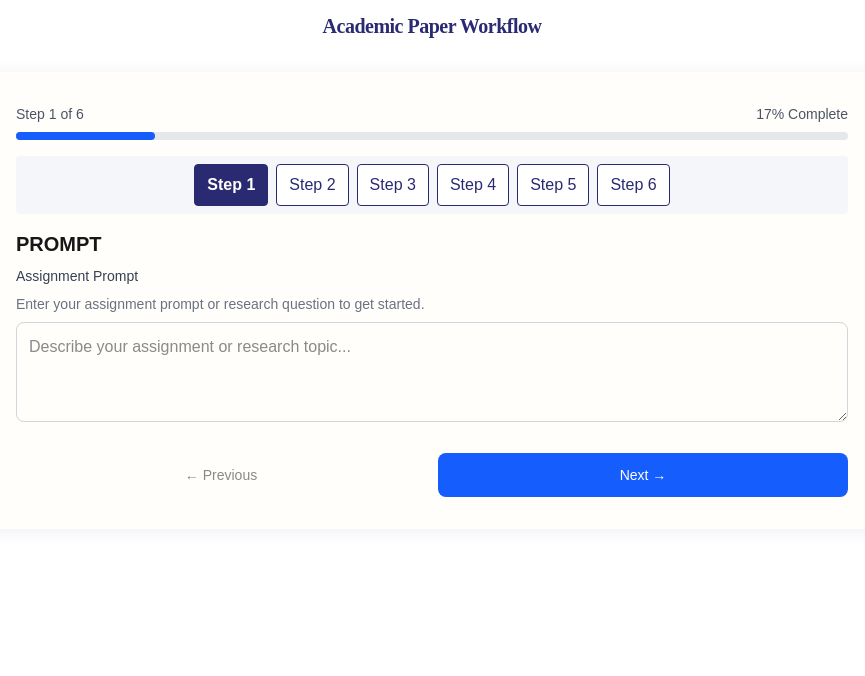
Test: Error Handling and Recovery › should display user-friendly error messages for API failures
The image size is (865, 676).
// Add prompt and trigger API call
Step 1. Type "Test prompt" into the text box labelled "Assignment Prompt" → [432, 372], box x1=16 y1=322 x2=848 y2=422
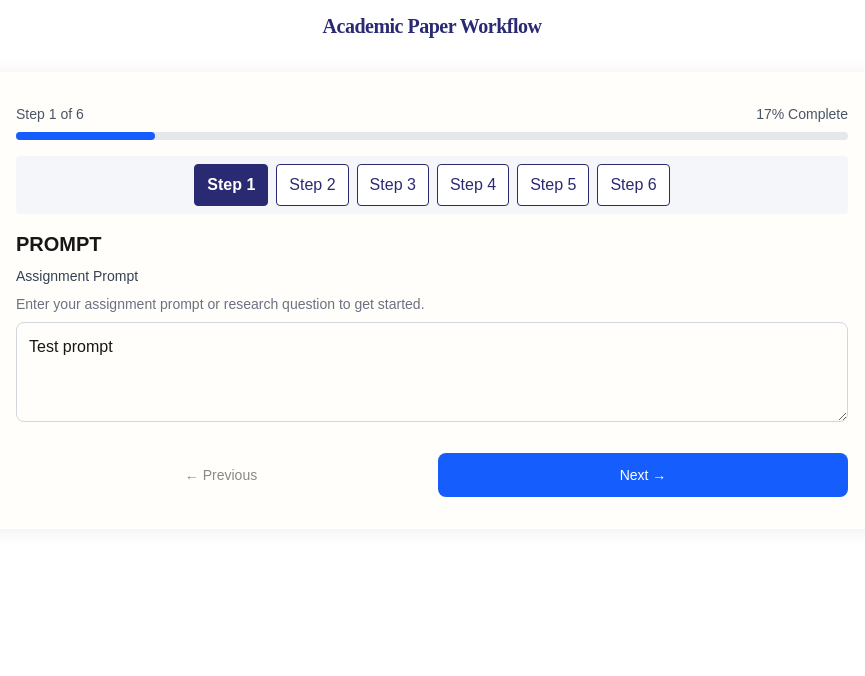
Step 2. Click the button with aria-label "go to next step" → [643, 475], box x1=438 y1=453 x2=848 y2=497
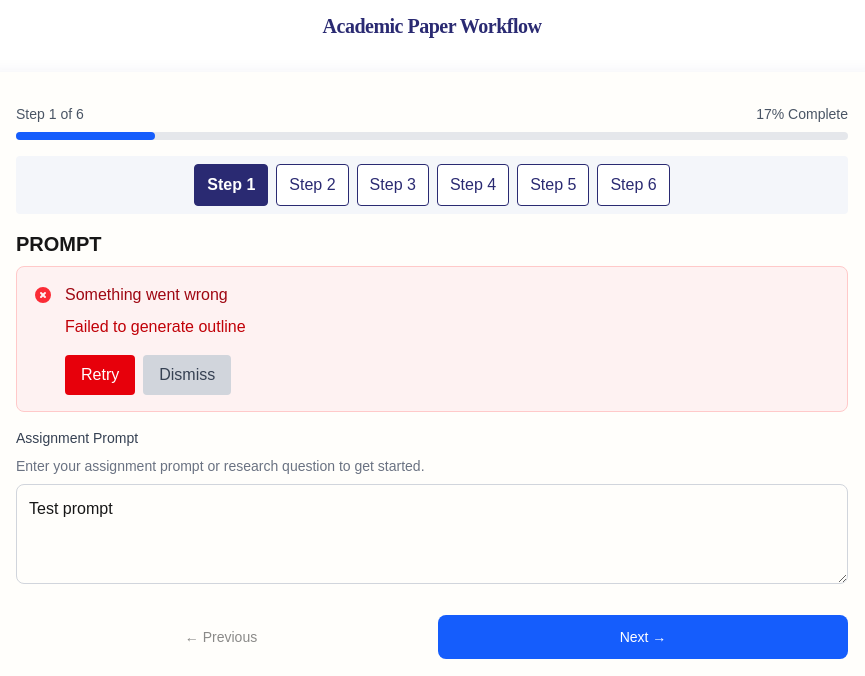
Check: the message "Something went wrong Failed to generate outline Retry Dismiss" is shown, box x1=16 y1=266 x2=848 y2=412
Check: the heading "Something went wrong" is shown, box x1=65 y1=286 x2=228 y2=303
Check: the text "Failed to generate outline" is shown, box x1=65 y1=318 x2=246 y2=335
